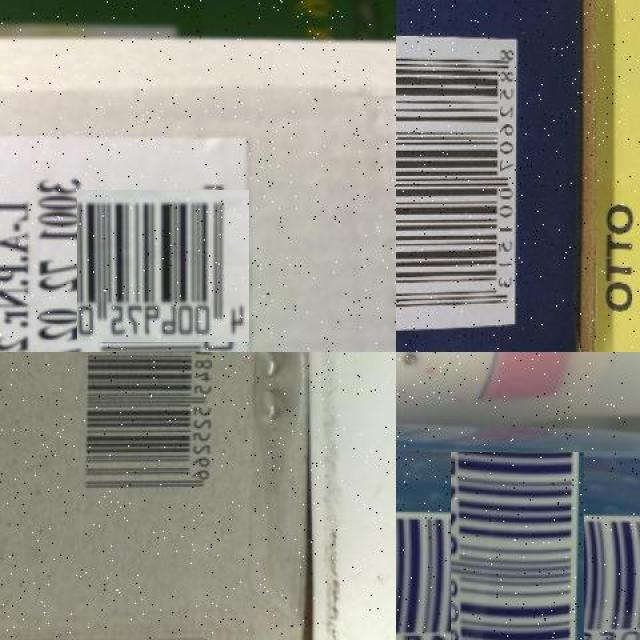Barcode: (396, 35, 515, 328), (423, 480, 612, 640), (82, 185, 245, 347), (69, 352, 224, 501)
